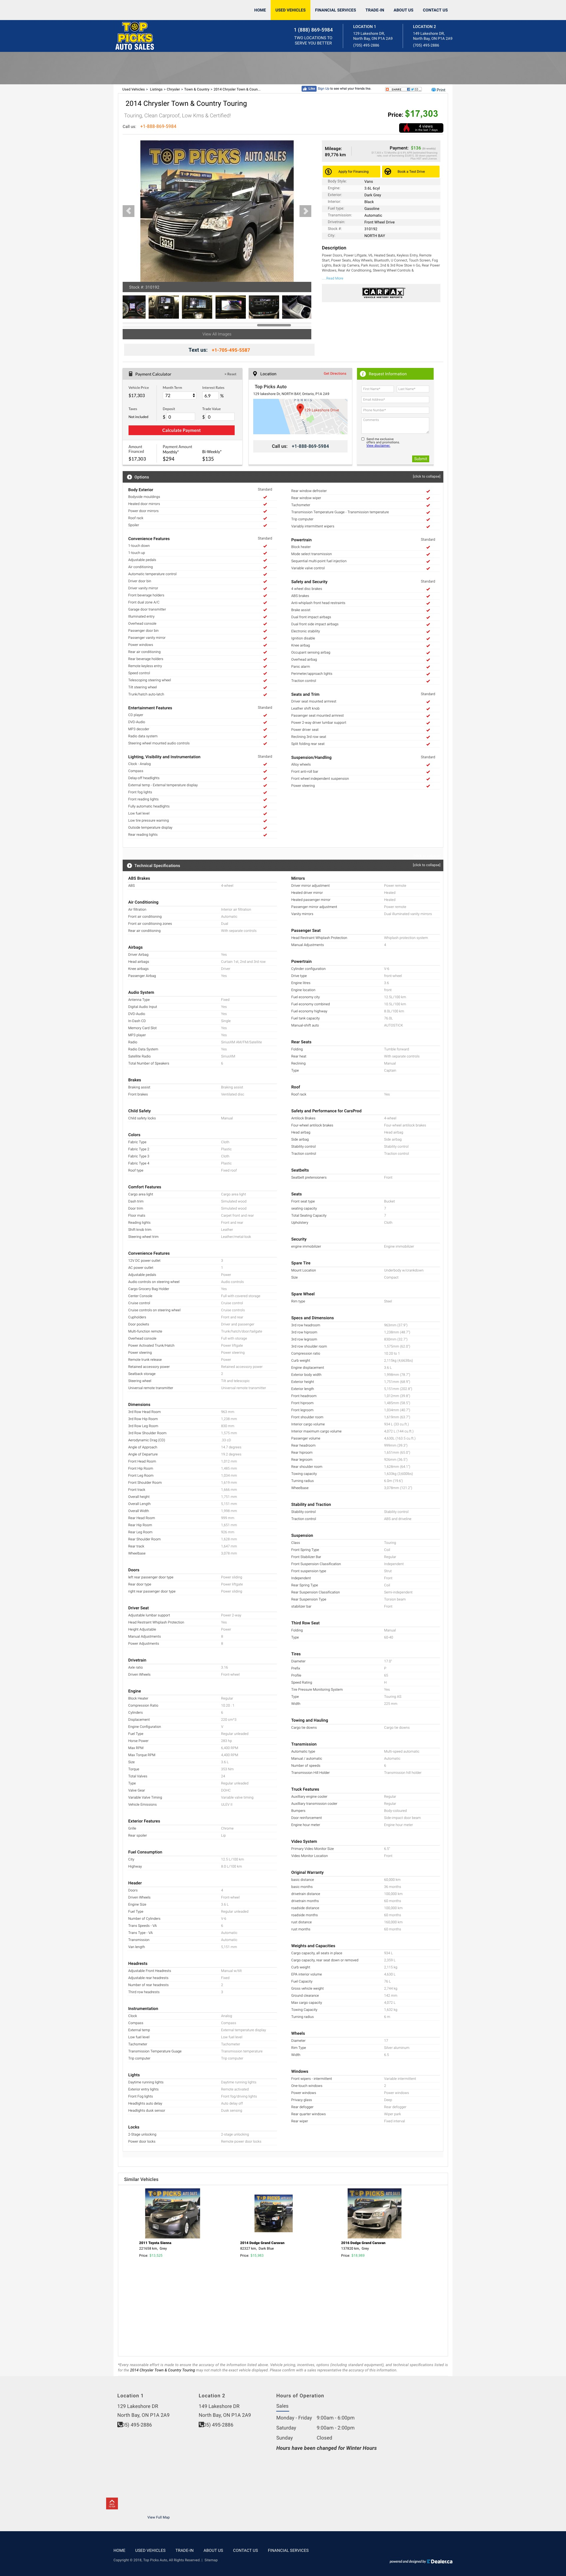car: (304, 209, 308, 215)
